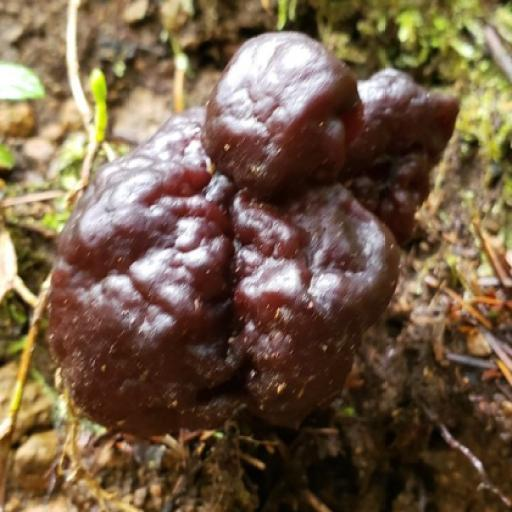mushroom: (28, 25, 411, 442)
